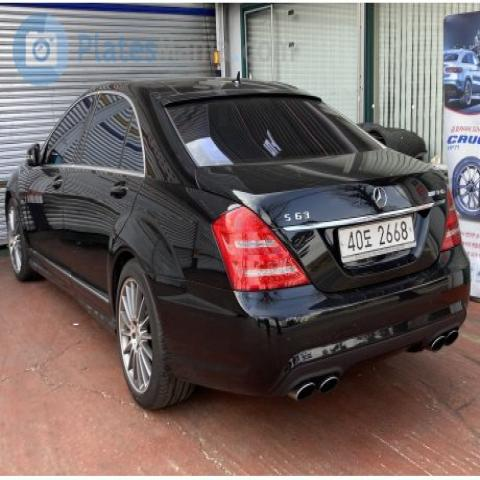LP: (336, 204, 425, 272)
